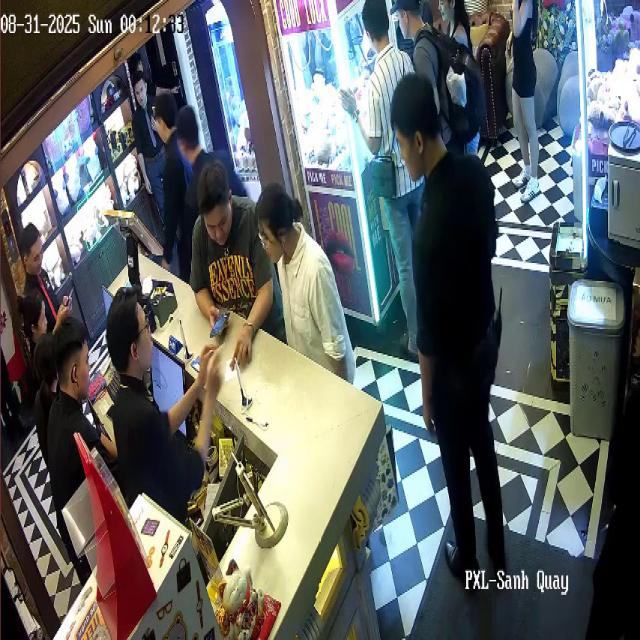khach: (337, 6, 423, 342), (262, 168, 351, 370), (192, 157, 274, 348), (392, 2, 482, 154), (436, 2, 496, 196), (502, 0, 540, 208)
nhan vien: (390, 70, 526, 592), (111, 292, 234, 565), (54, 311, 112, 528), (177, 96, 231, 272), (130, 73, 167, 223), (21, 227, 70, 332), (158, 93, 185, 272), (30, 325, 57, 473), (17, 287, 48, 387)
